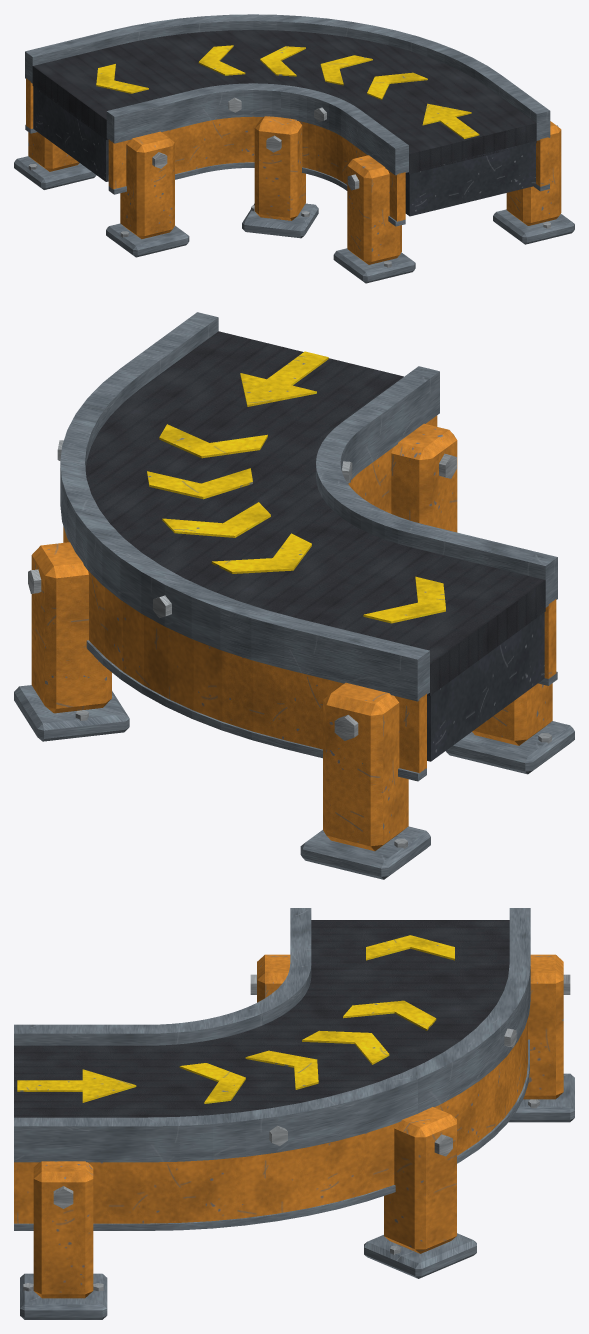
File: conveyor_curve_left.glb
The picture shows the model from 3 angles, top to bottom: view 1: azimuth 30°, elevation 25°; view 2: azimuth 150°, elevation 25°; view 3: azimuth 270°, elevation 25°; orthographic projection. The views are drawn at different scales.
Parts seen in each view (by area): view 1: ConveyorCurveLeft_Belt, ConveyorCurveLeft_SteelGrey, ConveyorCurveLeft_Orange, ConveyorCurveLeft_DarkGrey, ConveyorCurveLeft_Yellow, ConveyorCurveLeft_SteelLight; view 2: ConveyorCurveLeft_Belt, ConveyorCurveLeft_SteelGrey, ConveyorCurveLeft_Orange, ConveyorCurveLeft_Yellow, ConveyorCurveLeft_DarkGrey, ConveyorCurveLeft_SteelLight; view 3: ConveyorCurveLeft_Orange, ConveyorCurveLeft_SteelGrey, ConveyorCurveLeft_Belt, ConveyorCurveLeft_Yellow, ConveyorCurveLeft_SteelLight.
Part boxes in pixels (left/top/right/bottom): ConveyorCurveLeft_Belt: left=32, top=30, right=536, bottom=174; ConveyorCurveLeft_SteelGrey: left=14, top=14, right=574, bottom=283; ConveyorCurveLeft_Orange: left=26, top=78, right=561, bottom=264; ConveyorCurveLeft_DarkGrey: left=33, top=85, right=535, bottom=216; ConveyorCurveLeft_Yellow: left=96, top=45, right=479, bottom=138; ConveyorCurveLeft_SteelLight: left=28, top=97, right=558, bottom=267; ConveyorCurveLeft_Belt: left=85, top=331, right=545, bottom=695; ConveyorCurveLeft_SteelGrey: left=14, top=312, right=574, bottom=879; ConveyorCurveLeft_Orange: left=31, top=415, right=556, bottom=851; ConveyorCurveLeft_Yellow: left=147, top=351, right=445, bottom=623; ConveyorCurveLeft_DarkGrey: left=427, top=612, right=544, bottom=761; ConveyorCurveLeft_SteelLight: left=28, top=440, right=551, bottom=848; ConveyorCurveLeft_Orange: left=14, top=954, right=563, bottom=1298; ConveyorCurveLeft_SteelGrey: left=14, top=908, right=574, bottom=1319; ConveyorCurveLeft_Belt: left=14, top=920, right=509, bottom=1117; ConveyorCurveLeft_Yellow: left=17, top=935, right=454, bottom=1103; ConveyorCurveLeft_SteelLight: left=23, top=974, right=570, bottom=1291.
Bounding box in the file's own units: 8.49 × 2.95 × 8.49.
Materials: 6 (6 with a texture image).
